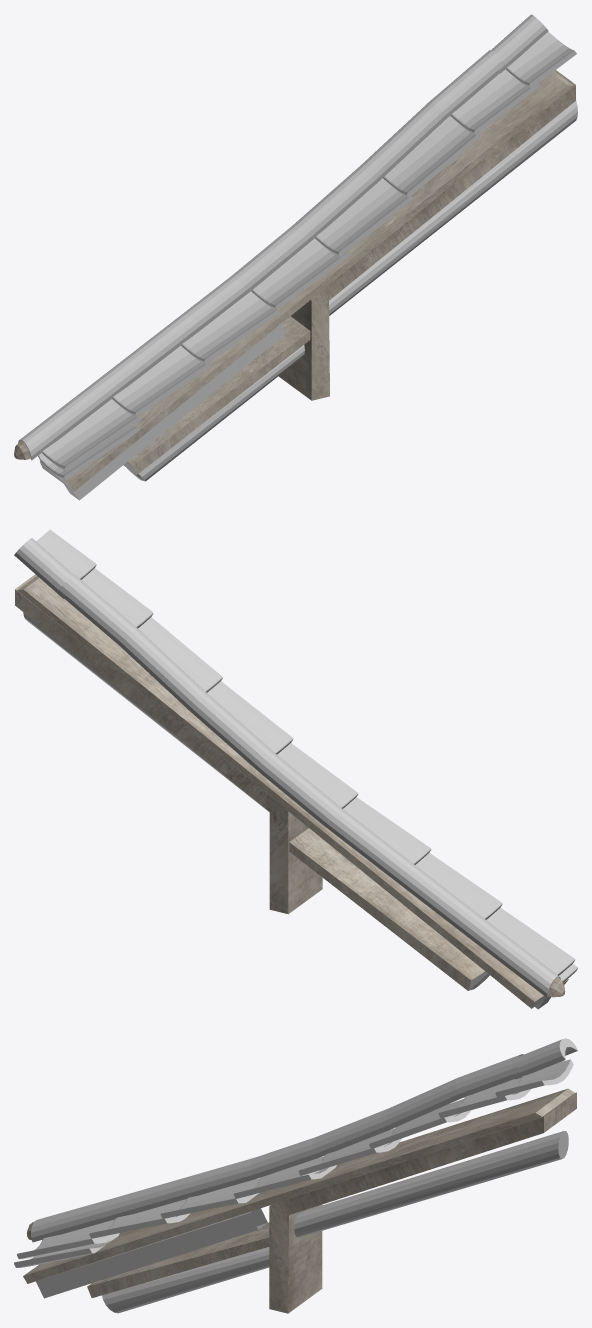
File: SM_Roof_59.fbx
3 renders of one model, top to bottom at view 1: azimuth 30°, elevation 25°; view 2: azimuth 150°, elevation 25°; view 3: azimuth 330°, elevation 25°, orthographic. The views are drawn at different scales.
Parts seen in each view (by area): view 1: SM_Roof_59; view 2: SM_Roof_59; view 3: SM_Roof_59.
Part boxes in pixels (left/top/right/bottom): SM_Roof_59: left=14, top=14, right=577, bottom=500; SM_Roof_59: left=14, top=529, right=577, bottom=1009; SM_Roof_59: left=14, top=1038, right=577, bottom=1313.
Bounding box in the file's own units: 438 × 53.05 × 272.
